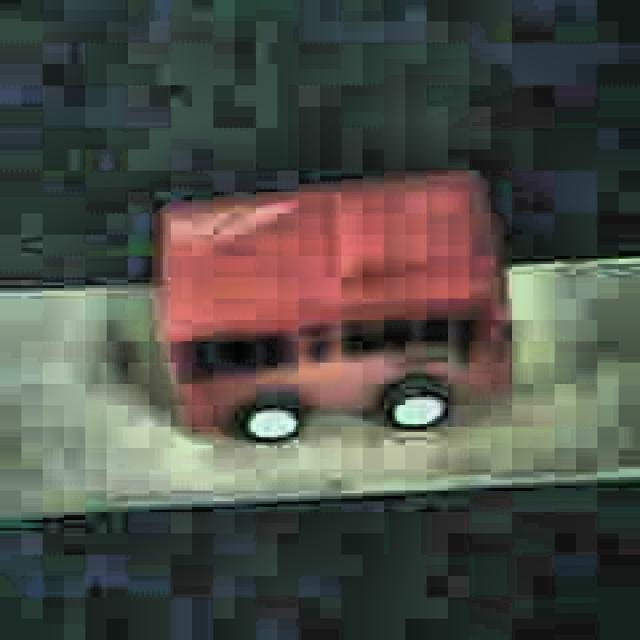bus: (158, 168, 510, 449)
